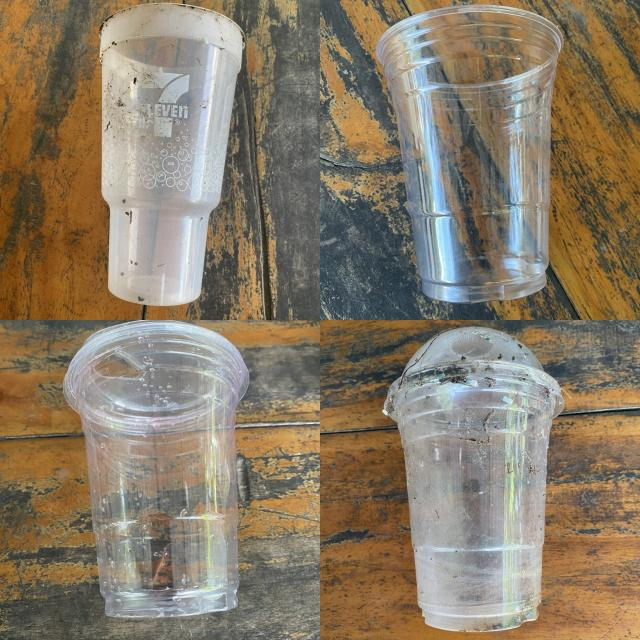Single-Use-Plastic: (376, 5, 564, 302), (64, 321, 249, 618), (384, 326, 564, 631), (101, 5, 244, 305)
